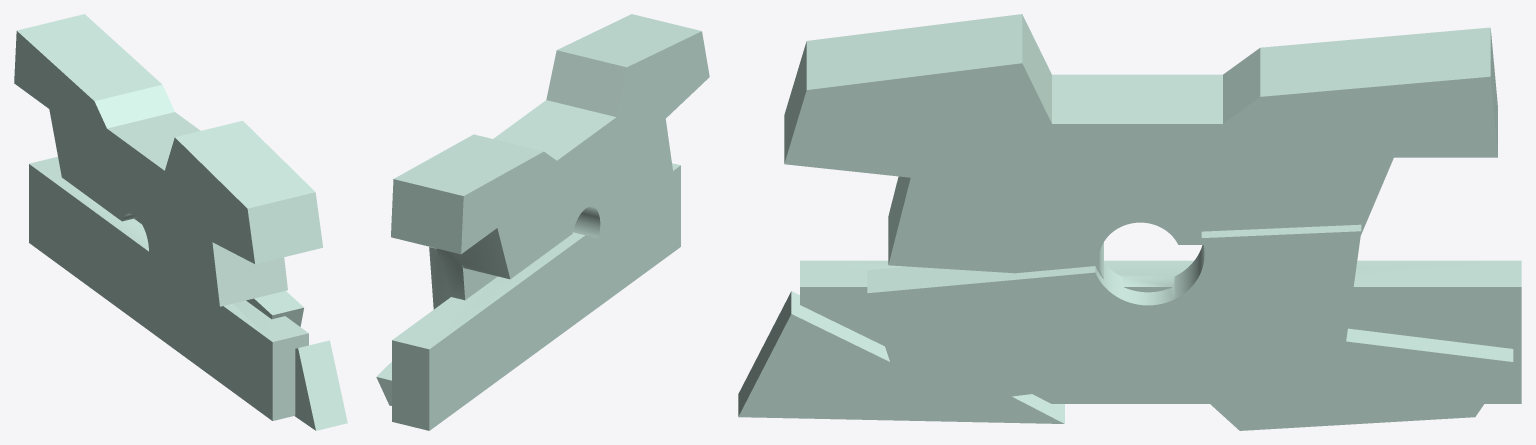
The picture shows the model from 3 angles, left to right: view 1: azimuth 30°, elevation 25°; view 2: azimuth 150°, elevation 25°; view 3: azimuth 270°, elevation 25°; orthographic projection. The views are drawn at different scales.
Visible parts, largest first — view 1: Renderer Node; view 2: Renderer Node; view 3: Renderer Node.
Part boxes in pixels (<box>): Renderer Node: <box>14,14,347,430</box>; Renderer Node: <box>376,14,709,430</box>; Renderer Node: <box>738,14,1521,430</box>.
Bounding box in the file's own units: 0.1328 × 0.4012 × 0.7886.
